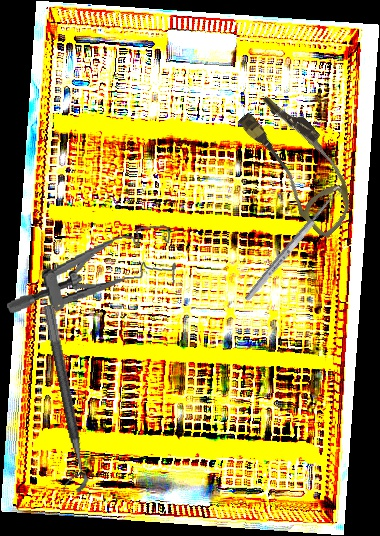Cannula: (224, 86, 376, 241)
Fixation Ring: (27, 304, 91, 496)
Speculum: (0, 224, 181, 316)
Surgical Spoon: (243, 185, 344, 303)
